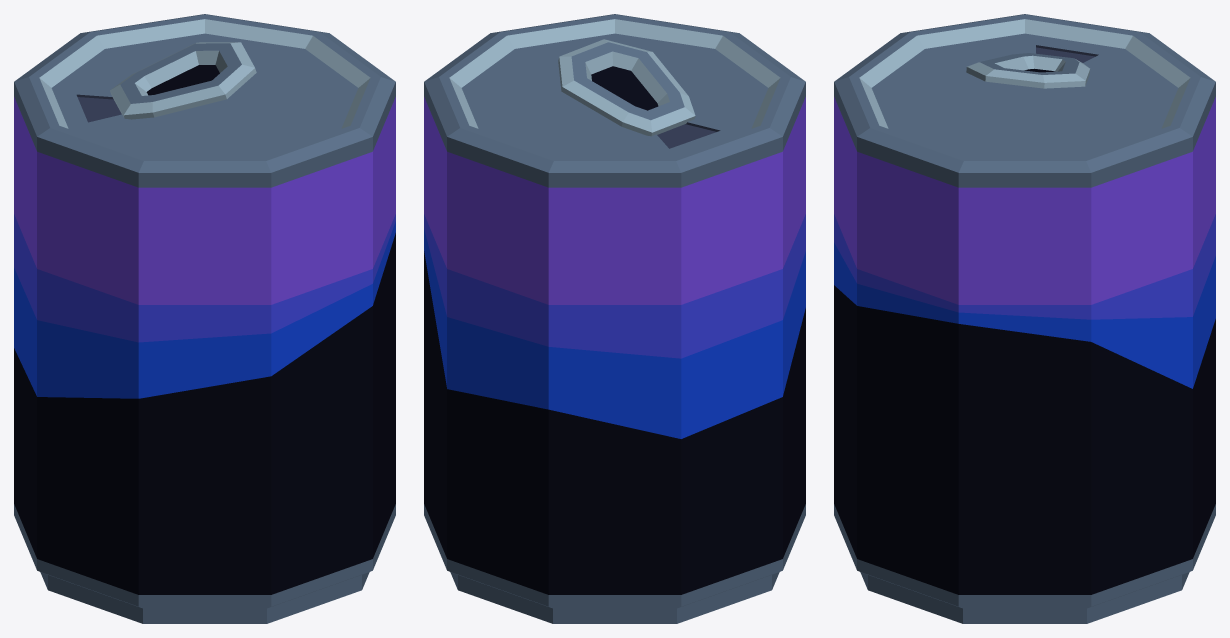
File: DrSwerve.002.fbx
3 views of the same model, side by side, from view 1: azimuth 30°, elevation 25°; view 2: azimuth 150°, elevation 25°; view 3: azimuth 270°, elevation 25° (orthographic).
Visible parts, largest first — view 1: DrSwerve.002; view 2: DrSwerve.002; view 3: DrSwerve.002.
Boxes of the visible parts, x1,y1,x2,y2 form: DrSwerve.002: (14,14,395,623); DrSwerve.002: (424,14,805,623); DrSwerve.002: (834,14,1215,623).
Size of the model in its own units: 21.89 by 31.72 by 22.23.
